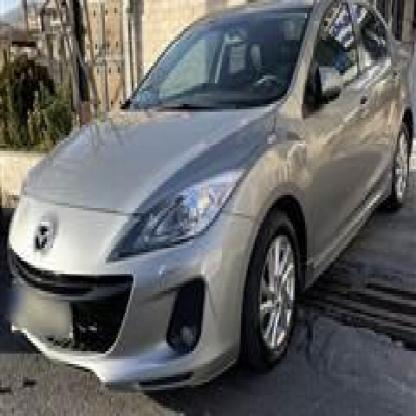Car: (0, 2, 416, 388)
